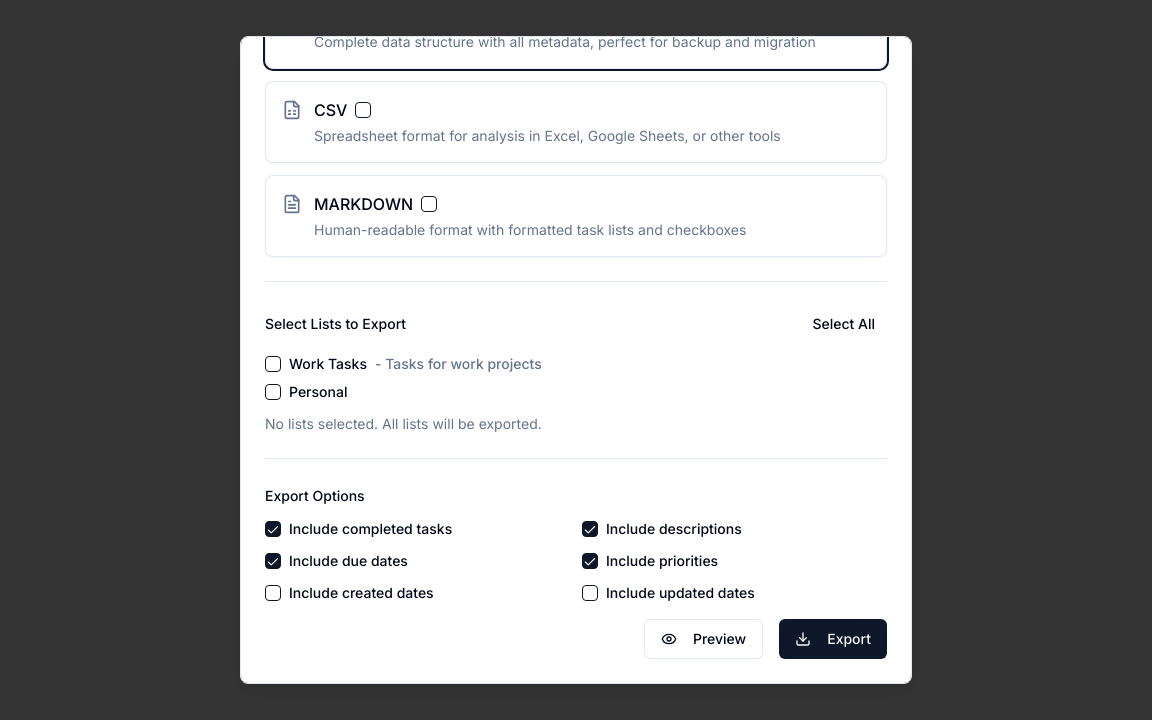
Scenario: ExportDialog › shows progress during export
(page scrolled)
Click the button "Export": (833, 639) [779,619,887,659]
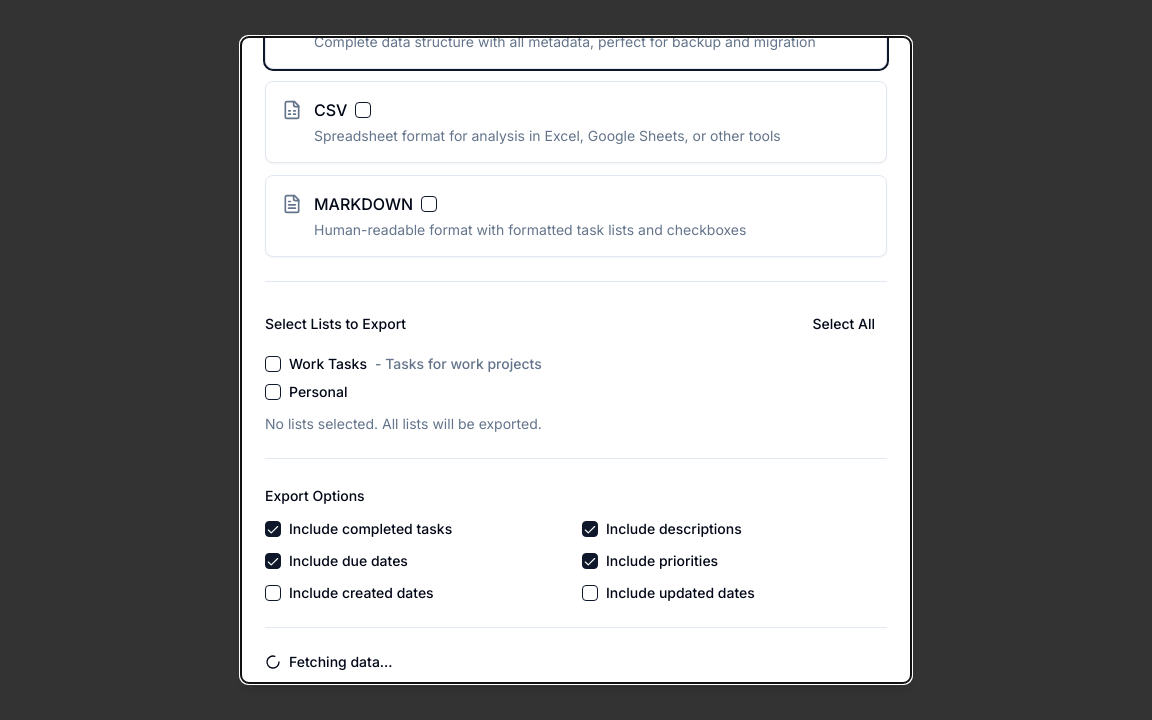
Expected: the text "Fetching data..." is shown, [289,652,393,672]
